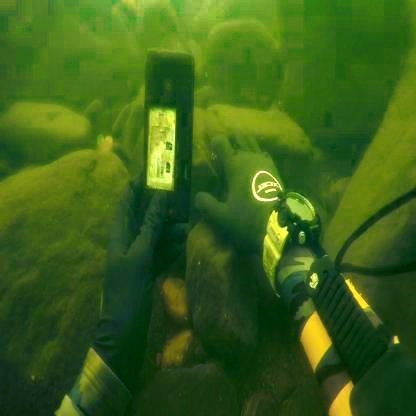cellphone: (144, 46, 194, 225)
electronics: (264, 187, 320, 299)
